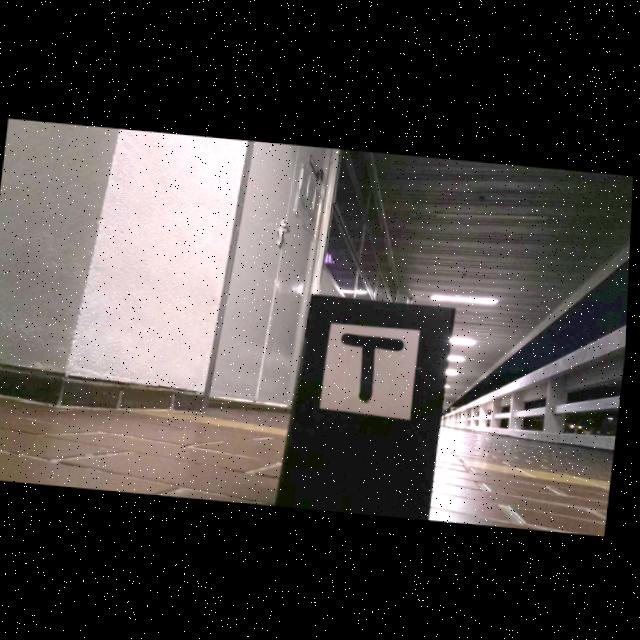T: (344, 332, 407, 400)
